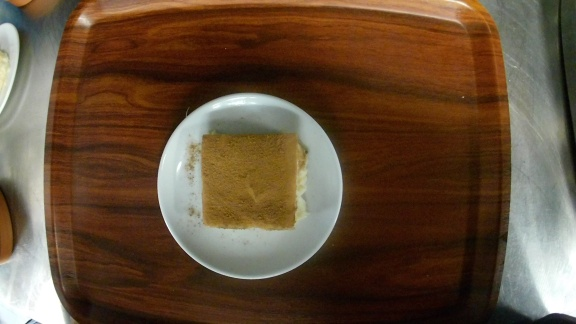tiramisu: (158, 92, 344, 280)
